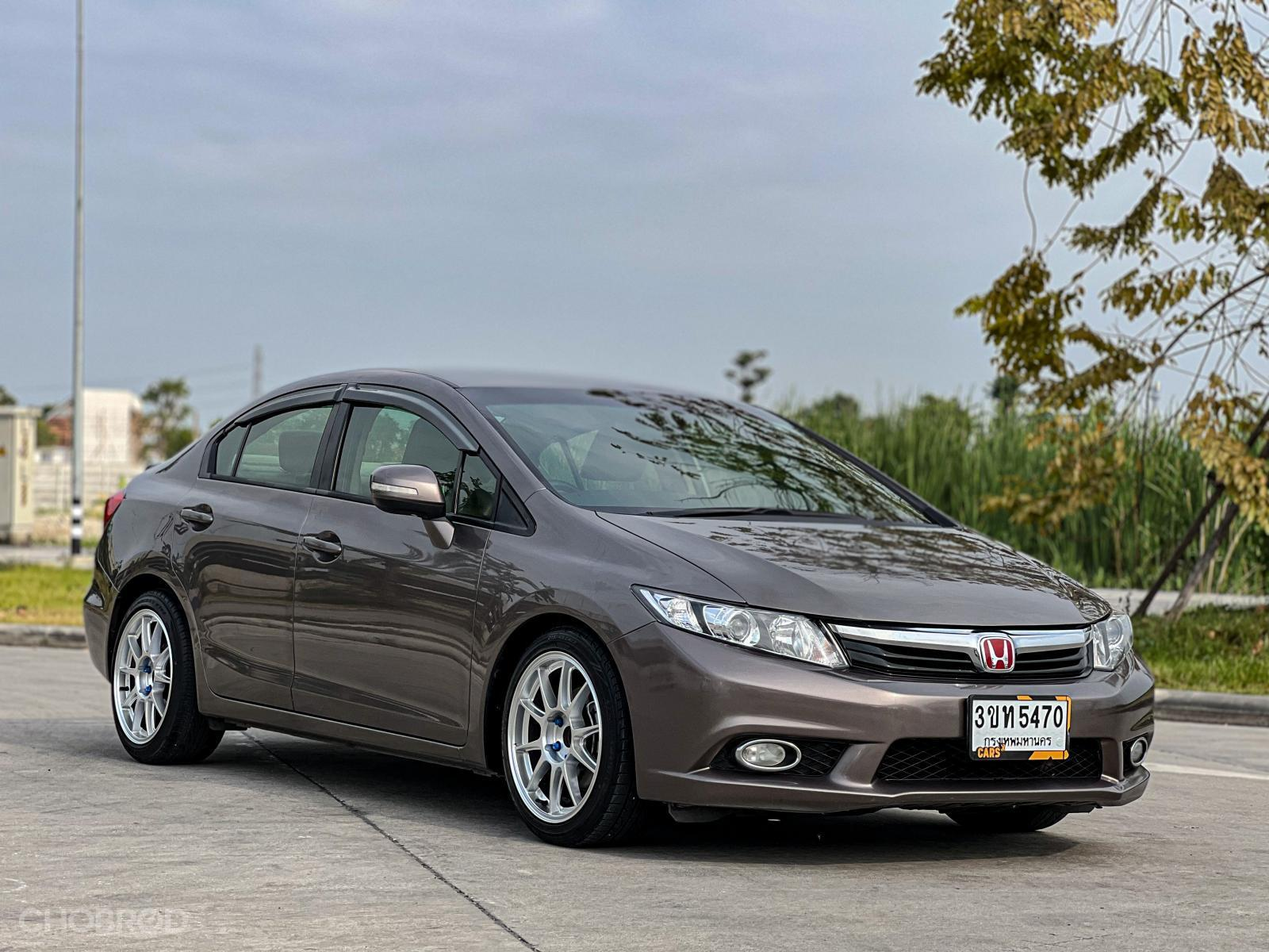license-plate: (956, 685, 1077, 779)
